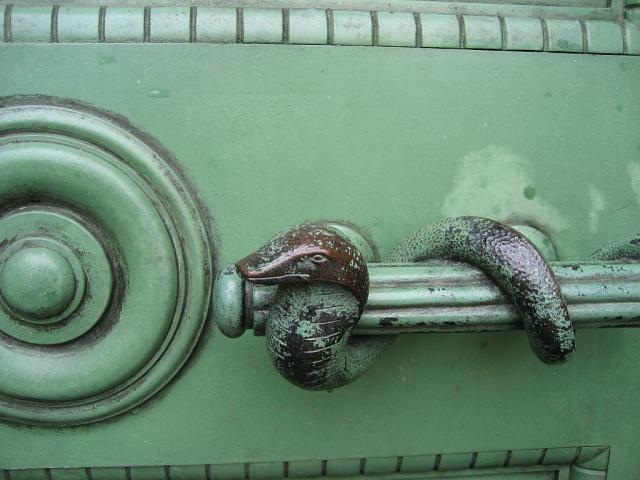Door-handle: (210, 213, 639, 393)
